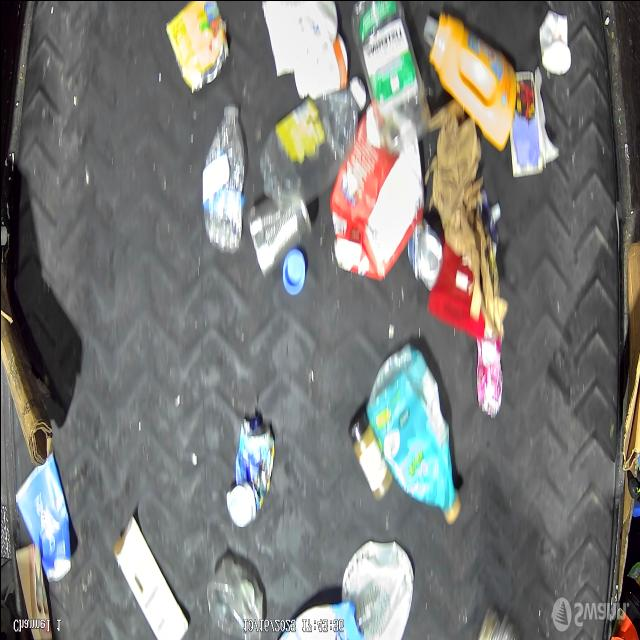can: (222, 410, 276, 530), (245, 190, 312, 282)
milk_jug: (260, 0, 339, 76)
non_white_jug: (366, 340, 461, 526), (422, 0, 522, 152)
plastic_bottle: (260, 76, 366, 212), (200, 103, 247, 255)
